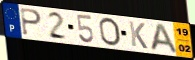2: (45, 12, 68, 41)
5: (76, 14, 95, 44)
A: (149, 23, 180, 56)
K: (127, 20, 149, 50)
O: (98, 17, 123, 48)
P: (20, 7, 44, 38)
